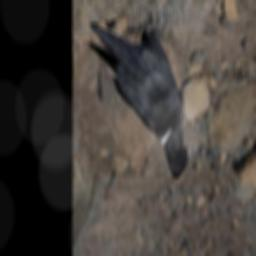Crow: (87, 0, 192, 180)
